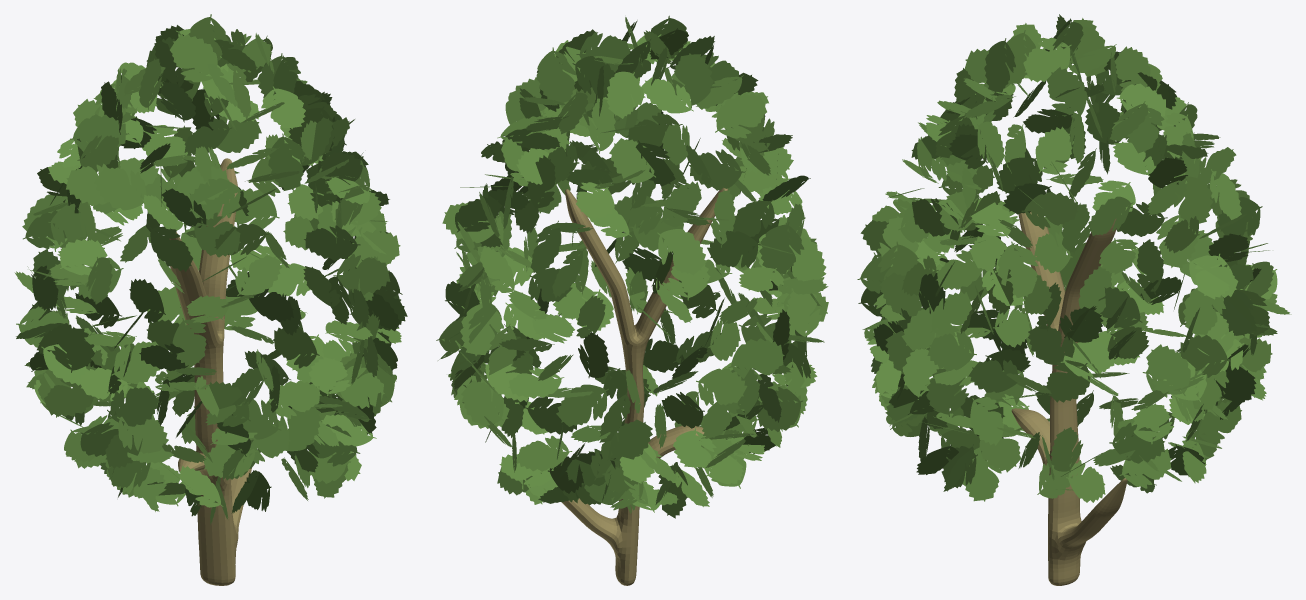
File: filicium.fbx
3 views of the same model, side by side, from view 1: azimuth 30°, elevation 25°; view 2: azimuth 150°, elevation 25°; view 3: azimuth 270°, elevation 25° (orthographic).
Parts seen in each view (by area): view 1: daun fillicium.265; view 2: daun fillicium.265; view 3: daun fillicium.265.
Part boxes in pixels (<box>): daun fillicium.265: <box>14,14,407,585</box>; daun fillicium.265: <box>436,15,828,585</box>; daun fillicium.265: <box>857,14,1291,585</box>.
Size of the model in its own units: 363 by 614 by 430.
